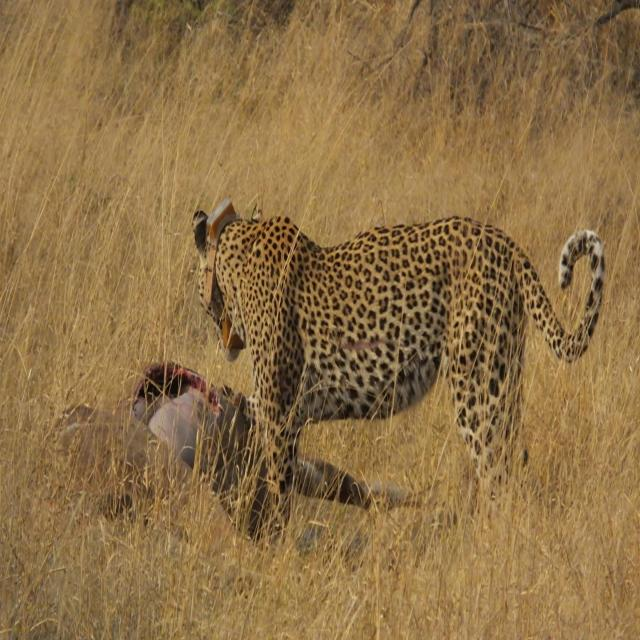Leopard: (191, 195, 570, 536)
